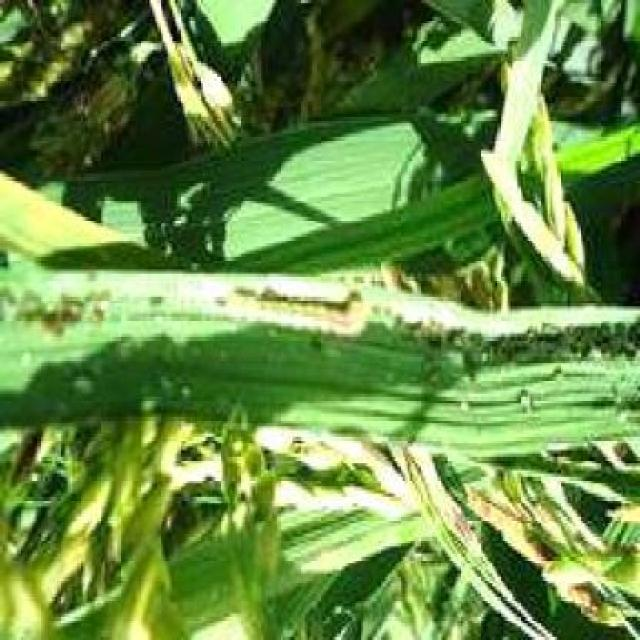leaf-folder: (218, 272, 384, 354)
